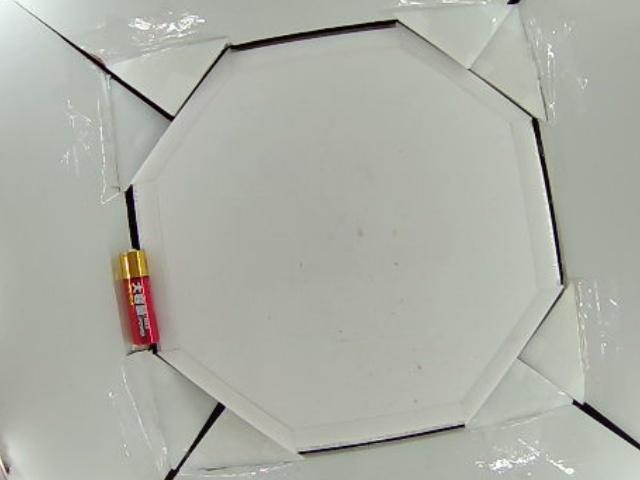Battery: (119, 248, 159, 344)
